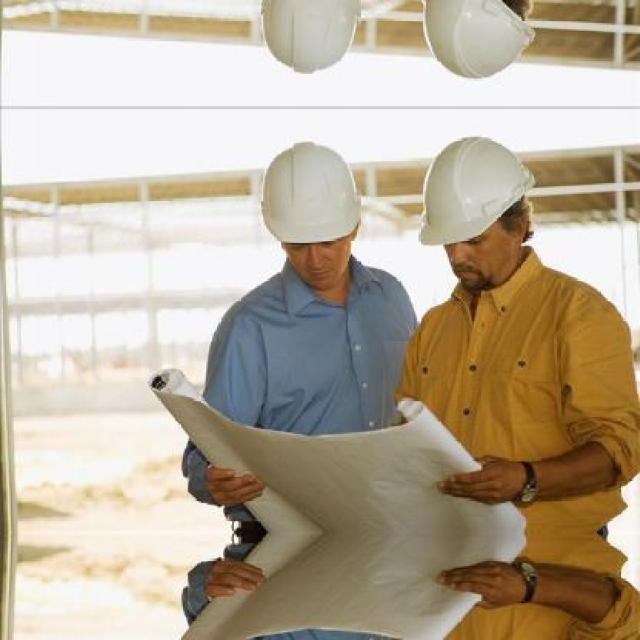helmet: (401, 126, 550, 300), (233, 128, 373, 300), (400, 0, 551, 88), (232, 0, 374, 85)
